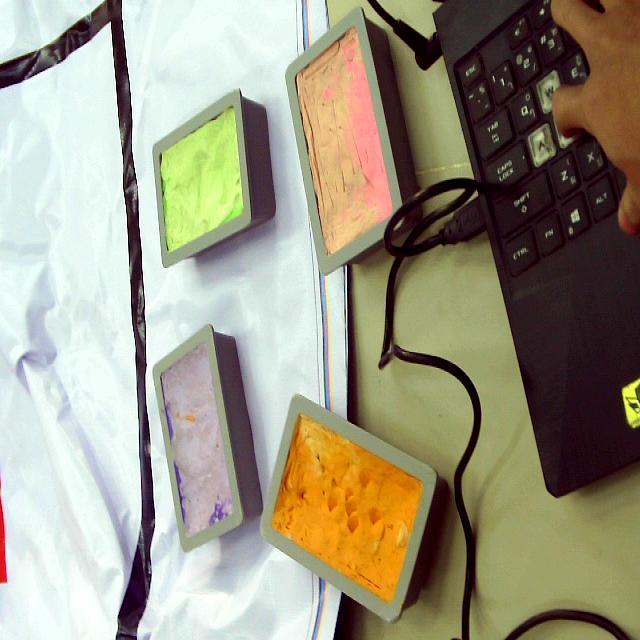block: (259, 387, 453, 624), (283, 6, 422, 277), (151, 324, 261, 550), (152, 88, 276, 268)
